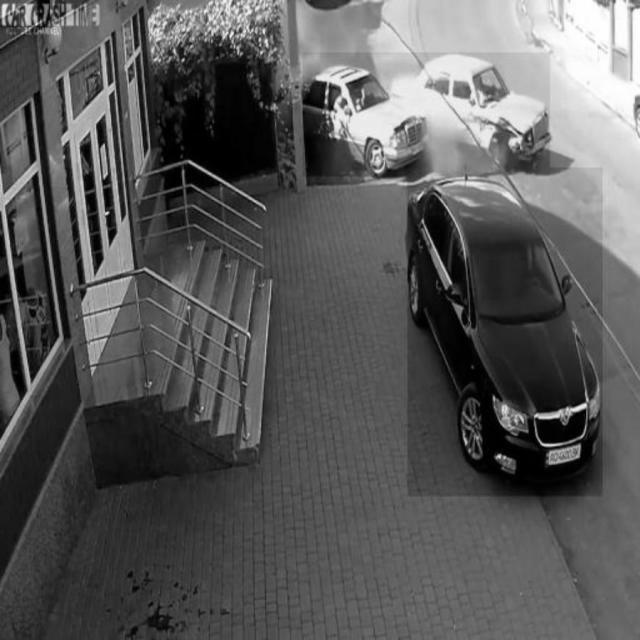accident: (302, 53, 550, 177)
vehicle: (408, 168, 603, 496)
